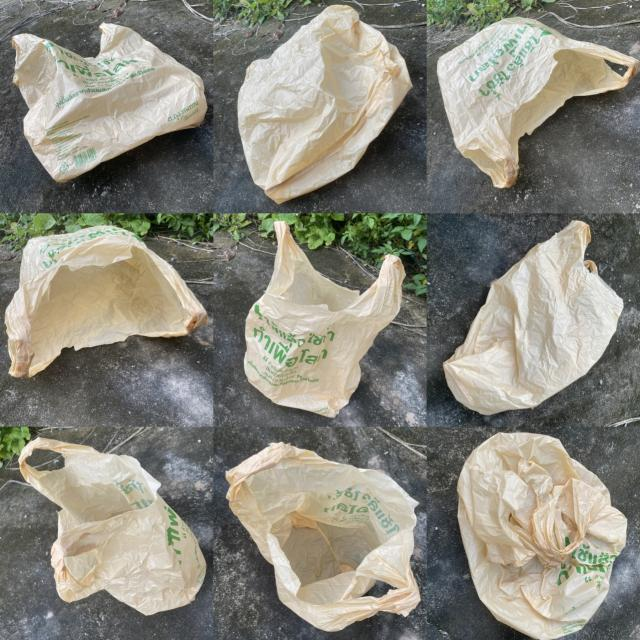Single-layer Plastic: (226, 442, 420, 631), (444, 221, 624, 415), (458, 432, 626, 639), (238, 5, 411, 203), (438, 18, 640, 187), (19, 438, 205, 615), (244, 221, 405, 418), (12, 24, 208, 182), (5, 226, 208, 378)
